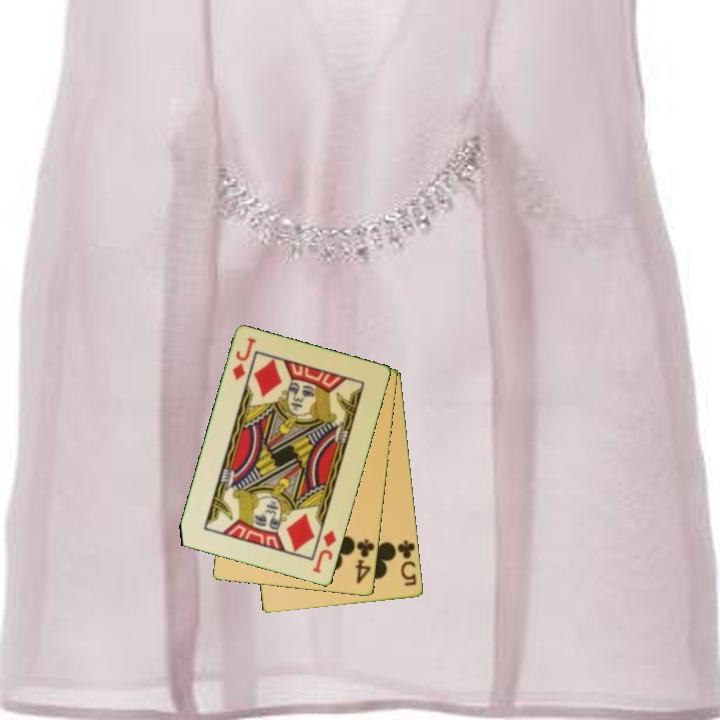4c: (352, 536, 377, 587)
5c: (392, 537, 420, 589)
Jd: (309, 527, 339, 577), (229, 334, 259, 383)
